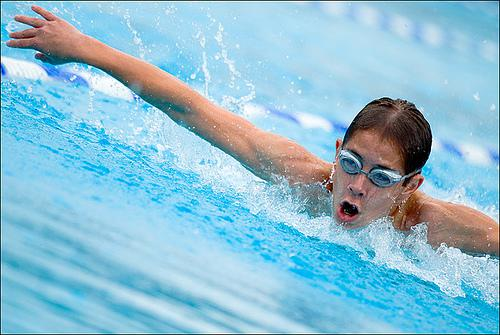human: (7, 3, 500, 261)
